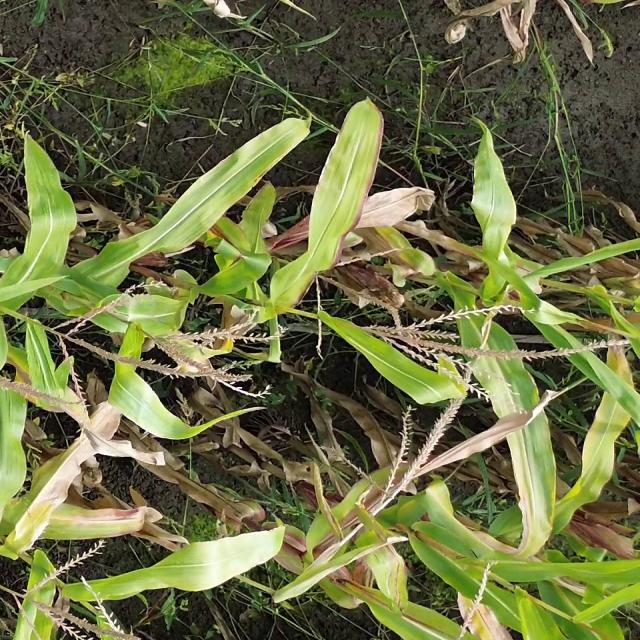gray-leaf-spot: (28, 170, 79, 233)
northern-leaf-blight: (47, 457, 160, 542), (508, 439, 561, 556), (442, 591, 512, 640)
